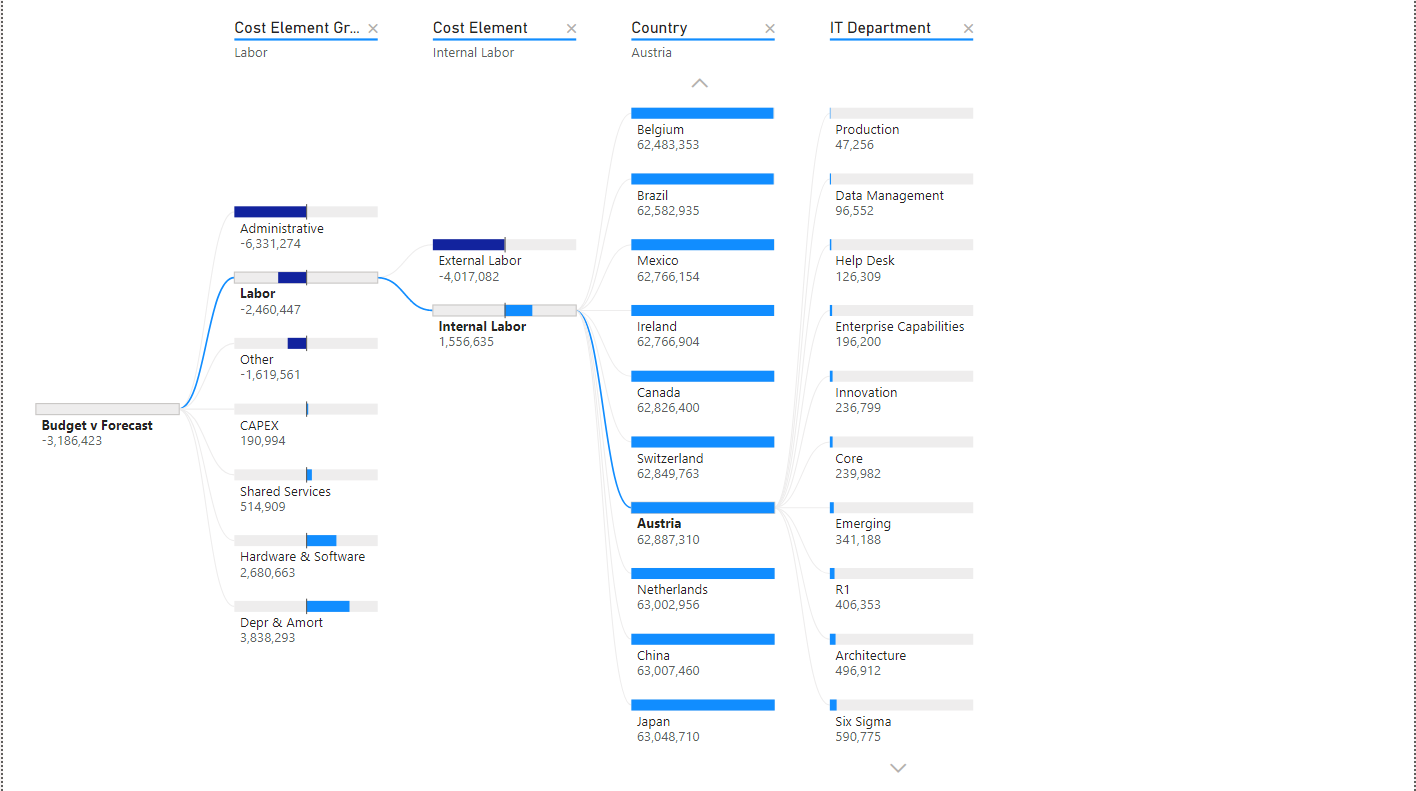

The page's visual inventory and layout, read from the dashboard file:
{"tool":"powerbi","page":{"name":"Decomposition Tree","canvas":[1280,720],"ordinal":2},"visuals":[{"type":"decompositionTreeVisual","fields":{"Analyze":["Budget.Budget v Forecast"],"ExplainBy":["CostElements.Cost Element Group","CostElements.Cost Element","Forecast.Country","Departments.IT Department"]},"box":[0,0,1280,720.1],"z":0}]}

Visuals, with their boxes in screenshot pixels (x1, y1, x2, y2), scaled from the page's 1280x720 canvas onto the 1416x791 screenshot:
decompositionTreeVisual - Budget.Budget v Forecast x CostElements.Cost Element Group: crop(0, 0, 1415, 790)
